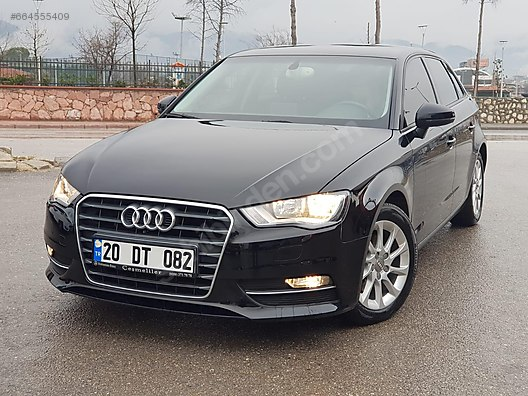audi: (115, 205, 176, 233)
